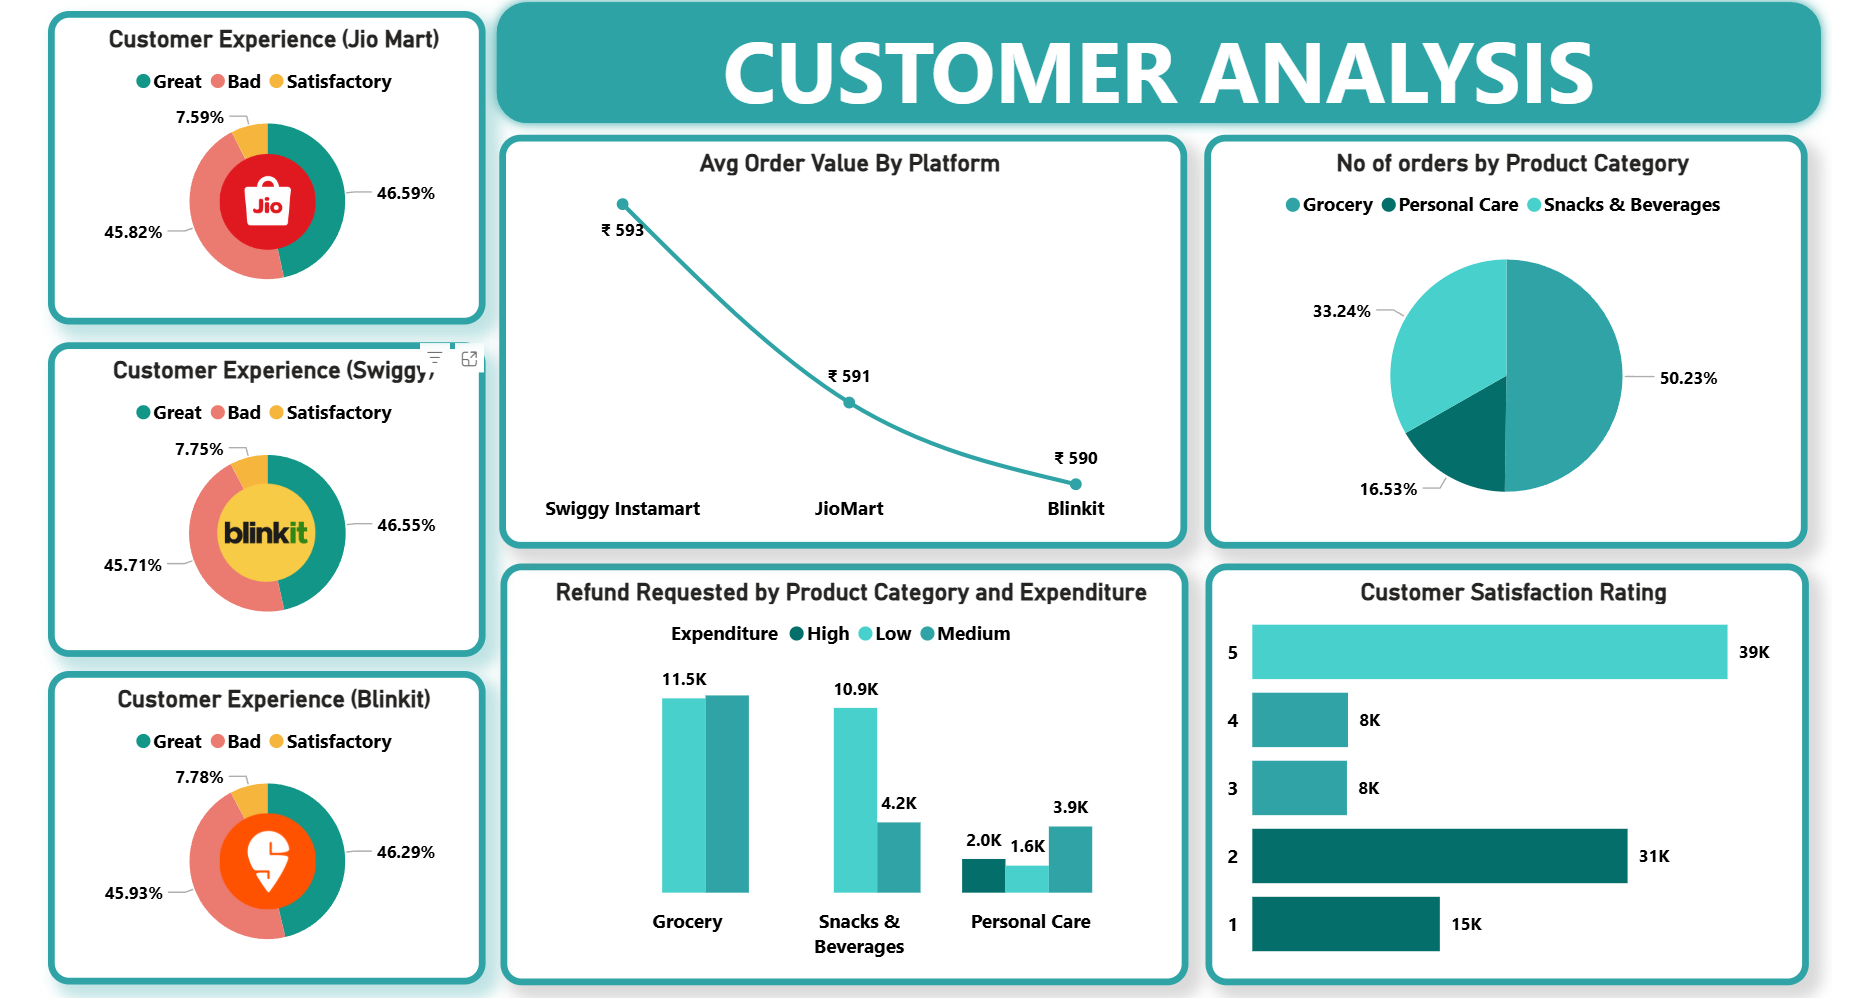

The page's visual inventory and layout, read from the dashboard file:
{"tool":"powerbi","page":{"name":"Customer Analysis","canvas":[1280,720],"ordinal":2},"visuals":[{"type":"shape","title":"E-COMMERCE REVENUE ANALYSIS","box":[324.7,0,955.3,101.6],"z":0},{"type":"pieChart","title":"No of orders by Product Category","fields":{"Y":["CountNonNull(Ecommerce_Delivery_Analytics_New.Order_ID)"],"Series":["Ecommerce_Delivery_Analytics_New.Real Product Catagory"]},"box":[834.8,101.6,428.3,293.9],"z":1000},{"type":"clusteredColumnChart","title":"Refund Requested by Product Category and Expenditure","fields":{"Y":["CountNonNull(Ecommerce_Delivery_Analytics_New.Refund_Requested)"],"Series":["Ecommerce_Delivery_Analytics_New.Expenditure"],"Category":["Ecommerce_Delivery_Analytics_New.Real Product Catagory"]},"box":[334.9,405.8,488.4,298.8],"z":2000},{"type":"donutChart","title":"Customer Experience (Swiggy)","fields":{"Y":["CountNonNull(Ecommerce_Delivery_Analytics_New.Order_ID)"],"Category":["Ecommerce_Delivery_Analytics_New.Customer Satisfaction "],"Series":["Ecommerce_Delivery_Analytics_New.Platform"]},"box":[13.9,249,310.8,223.1],"z":3000},{"type":"donutChart","title":"Customer Experience (Jio Mart)","fields":{"Y":["CountNonNull(Ecommerce_Delivery_Analytics_New.Order_ID)"],"Category":["Ecommerce_Delivery_Analytics_New.Customer Satisfaction "],"Series":["Ecommerce_Delivery_Analytics_New.Platform"]},"box":[13.9,13.9,310.8,222.1],"z":4000},{"type":"donutChart","title":"Customer Experience (Blinkit)","fields":{"Y":["CountNonNull(Ecommerce_Delivery_Analytics_New.Order_ID)"],"Category":["Ecommerce_Delivery_Analytics_New.Customer Satisfaction "],"Series":["Ecommerce_Delivery_Analytics_New.Platform"]},"box":[13.9,482.1,310.8,222.1],"z":5000},{"type":"image","box":[131.5,101.6,77.7,94.6],"z":6000},{"type":"image","box":[129.5,342.7,79.7,83.7],"z":7000},{"type":"image","box":[131.5,574.8,77.7,85.7],"z":8000},{"type":"lineChart","title":"Avg Order Value By Platform","fields":{"Category":["Ecommerce_Delivery_Analytics_New.Platform"],"Y":["Avg(Ecommerce_Delivery_Analytics_New.Order_Value_INR)"]},"box":[334.7,101.6,488.1,293.9],"z":9000},{"type":"clusteredBarChart","title":"Customer Satisfaction Rating","fields":{"Category":["Ecommerce_Delivery_Analytics_New.Service_Rating"],"Y":["CountNonNull(Ecommerce_Delivery_Analytics_New.Customer_ID)"]},"box":[834.9,405.8,427.9,298.8],"z":10000}]}

Visuals, with their boxes in screenshot pixels (x1, y1, x2, y2):
"E-COMMERCE REVENUE ANALYSIS" shape: (x1=484, y1=0, x2=1837, y2=125)
"No of orders by Product Category" pieChart: (x1=1206, y1=125, x2=1813, y2=541)
"Refund Requested by Product Category and Expenditure" clusteredColumnChart: (x1=498, y1=555, x2=1190, y2=979)
"Customer Experience (Swiggy)" donutChart: (x1=44, y1=333, x2=484, y2=649)
"Customer Experience (Jio Mart)" donutChart: (x1=44, y1=0, x2=484, y2=315)
"Customer Experience (Blinkit)" donutChart: (x1=44, y1=663, x2=484, y2=978)
image: (x1=210, y1=125, x2=320, y2=259)
image: (x1=207, y1=466, x2=320, y2=585)
image: (x1=210, y1=795, x2=320, y2=916)
"Avg Order Value By Platform" lineChart: (x1=498, y1=125, x2=1189, y2=541)
"Customer Satisfaction Rating" clusteredBarChart: (x1=1206, y1=555, x2=1812, y2=979)
